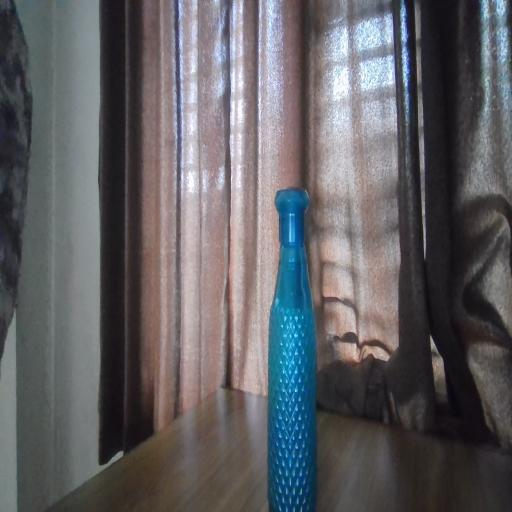Bottle: (256, 183, 339, 500)
